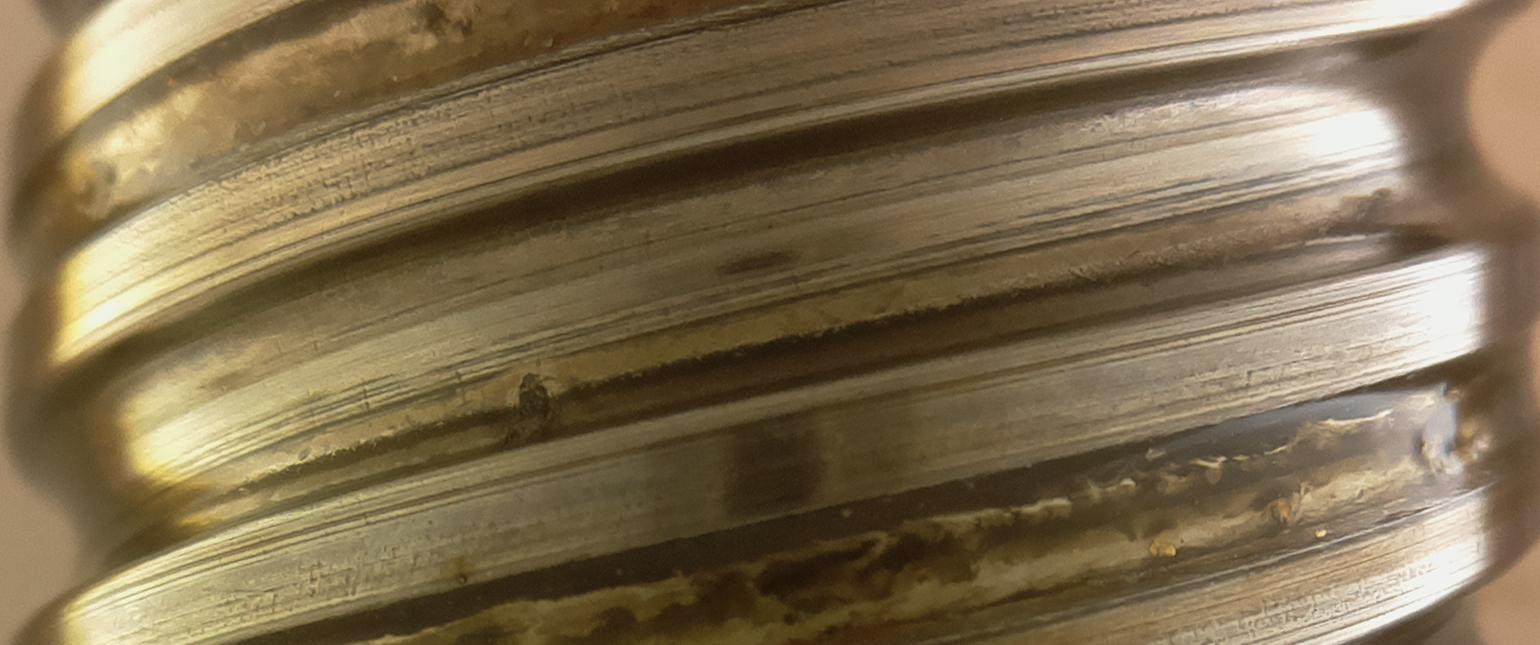pitting: (503, 373, 577, 447)
